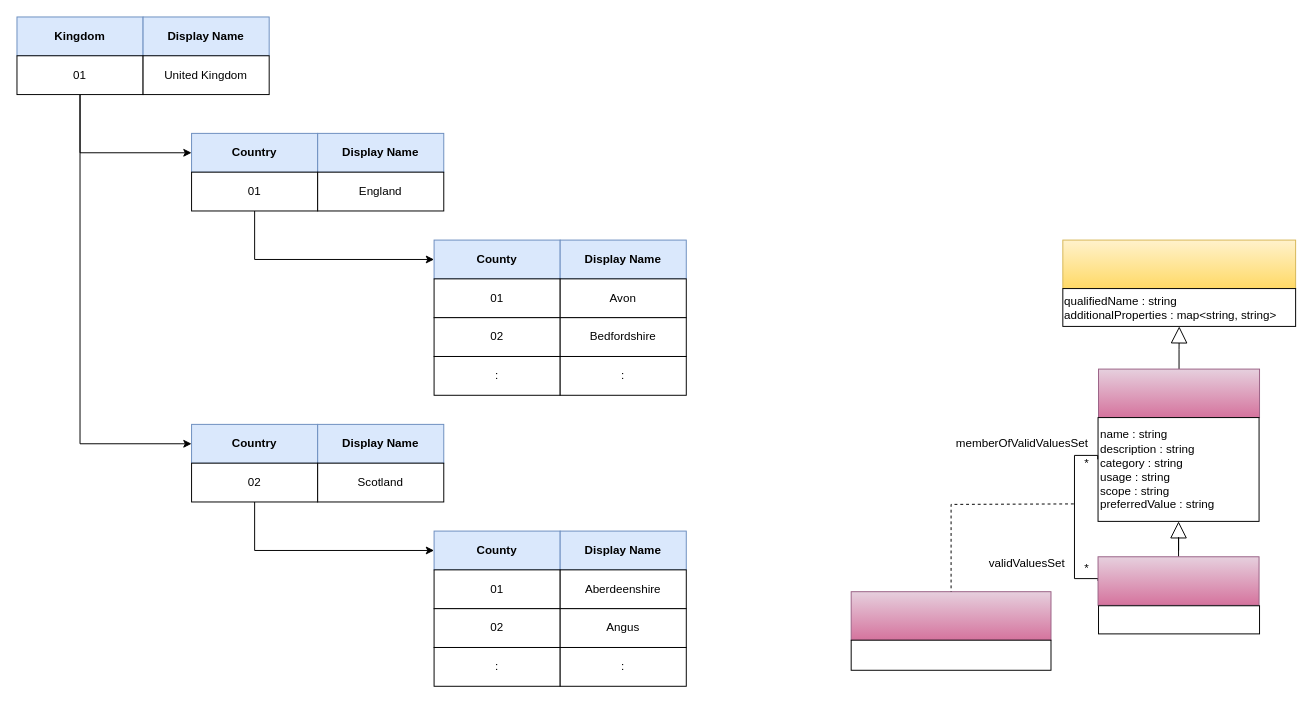
This 1313x703 diagram has some shape labels left out. The box of each missing label's shape, as (x1, y1, x2, y2) in pixels:
«entity» Referenceable: (1062, 239, 1296, 289)
«entity» ValidValueDefinition: (1098, 368, 1260, 418)
«entity» ValidValuesSet: (1097, 556, 1259, 605)
«relationship» ValidValueMember: (850, 591, 1051, 640)
